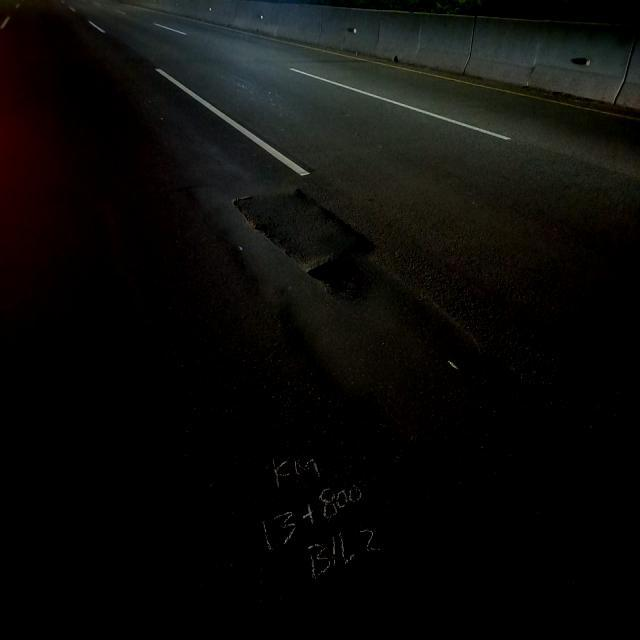Buraco: (298, 250, 368, 302), (251, 217, 282, 240), (282, 182, 314, 202), (229, 194, 257, 210)
